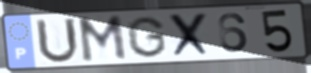5: (260, 8, 294, 54)
6: (217, 12, 251, 55)
G: (125, 15, 169, 60)
M: (75, 13, 130, 65)
U: (33, 16, 82, 65)
X: (167, 11, 214, 60)
